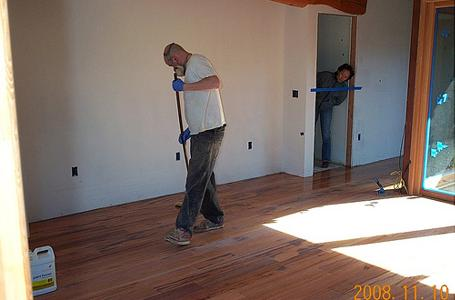person: (162, 44, 228, 246)
